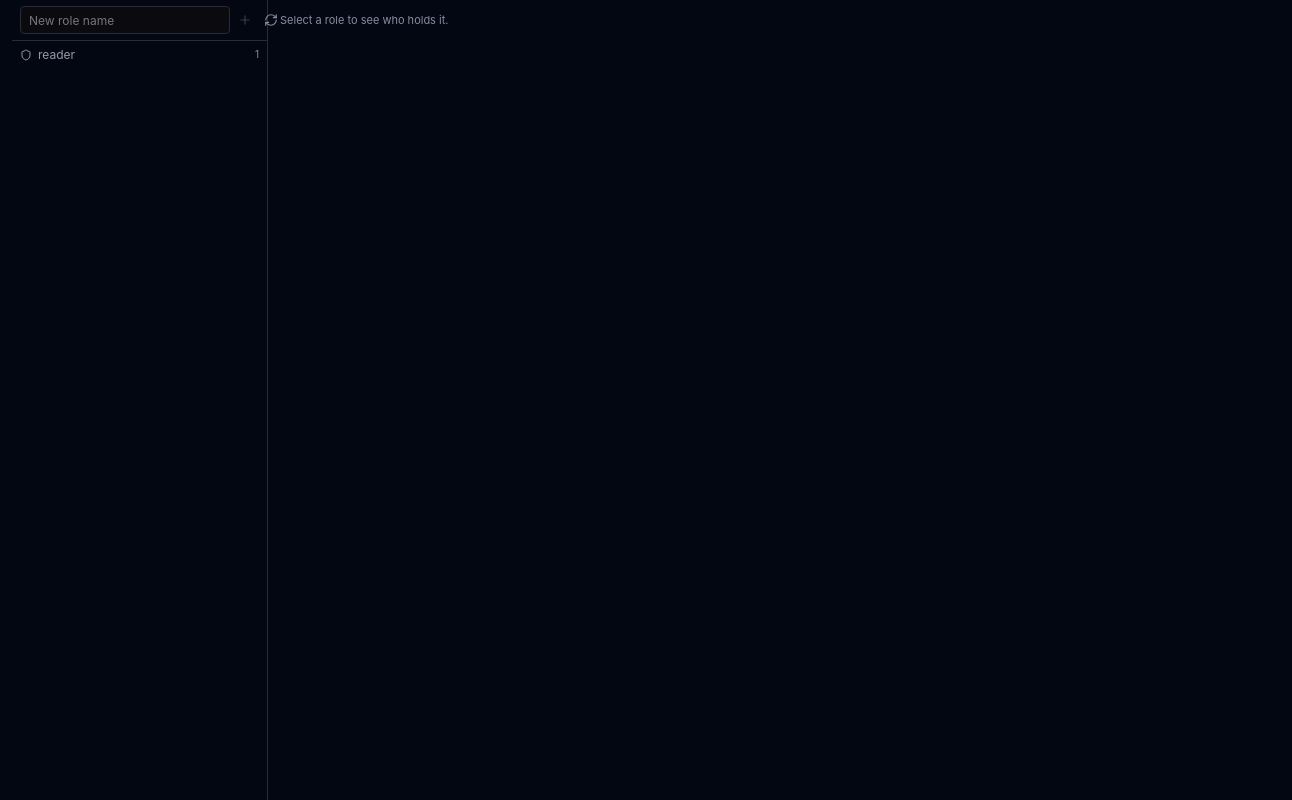
Scenario: RolesTab (#435) › shows who holds the selected role
The image size is (1292, 800).
What coordinates should you click on to do the following:
click the text "reader"
I would click on:
 (56, 55)
Its box is left=38, top=47, right=75, bottom=63.
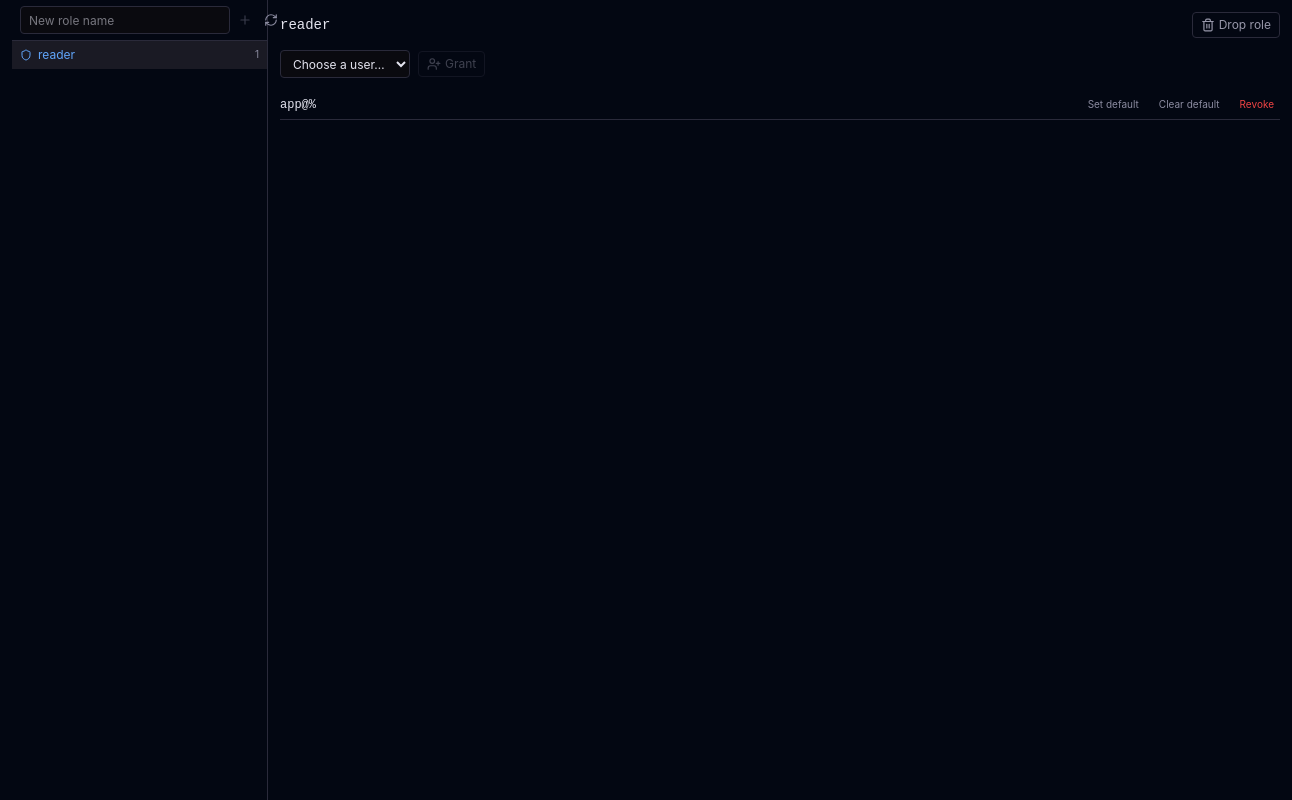
Now the text "app@%" is shown, box left=280, top=90, right=434, bottom=120
